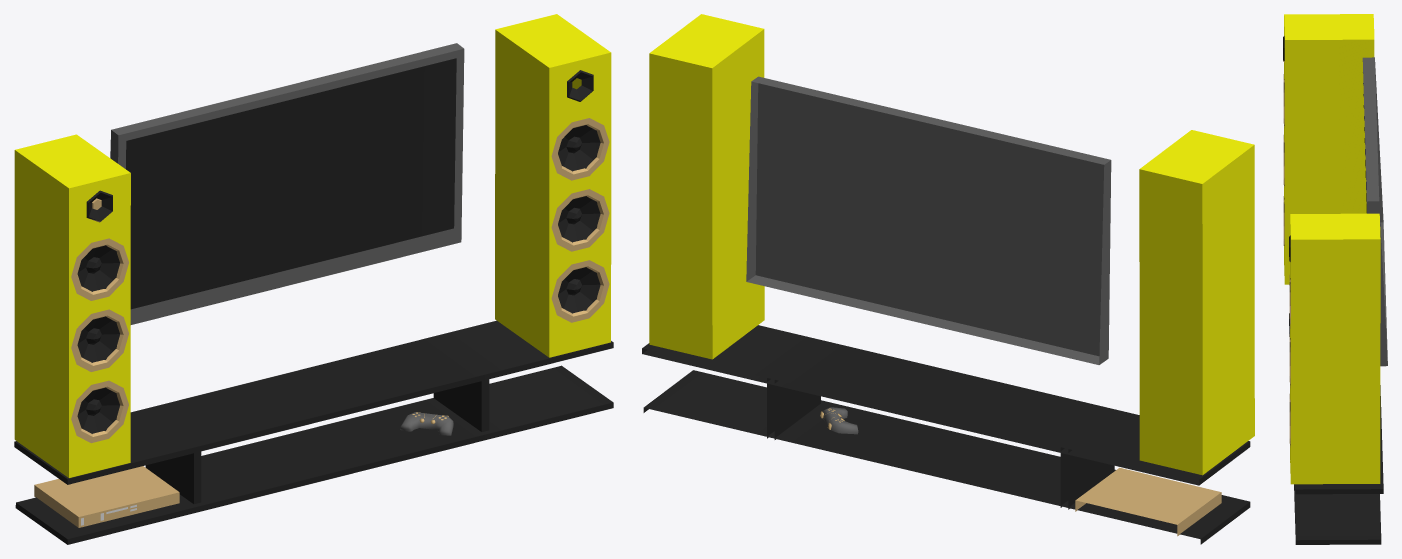
The model's file is LEDRack3.fbx.
The picture shows the model from 3 angles, left to right: view 1: azimuth 30°, elevation 25°; view 2: azimuth 150°, elevation 25°; view 3: azimuth 270°, elevation 25°; orthographic projection. The views are drawn at different scales.
Visible parts, largest first — view 1: LEDRack3; view 2: LEDRack3; view 3: LEDRack3.
Part boxes in pixels (box(x1,y1,x2,y2)): LEDRack3: box(14, 14, 613, 544); LEDRack3: box(642, 14, 1254, 544); LEDRack3: box(1283, 14, 1387, 544).
Bounding box in the file's own units: 108 × 67.35 × 21.12.
